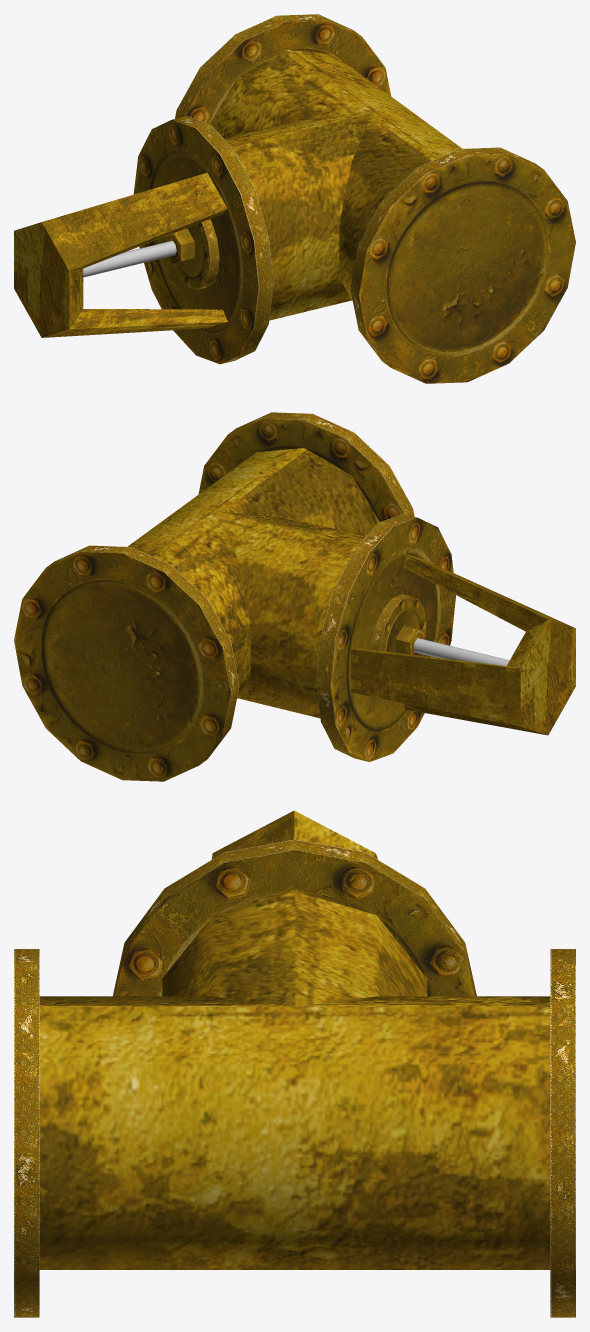
The model's file is valve_yellow.DAE.
The picture shows the model from 3 angles, top to bottom: view 1: azimuth 30°, elevation 25°; view 2: azimuth 150°, elevation 25°; view 3: azimuth 270°, elevation 25°; orthographic projection. The views are drawn at different scales.
Visible parts, largest first — view 1: Box342, Box341, Box347; view 2: Box342, Box341, Box347; view 3: Box341, Box342.
Part boxes in pixels (<box>): Box342: <box>133,14,575,383</box>; Box341: <box>14,49,462,337</box>; Box347: <box>83,241,176,277</box>; Box342: <box>14,412,455,781</box>; Box341: <box>127,448,575,735</box>; Box347: <box>413,638,509,665</box>; Box341: <box>39,810,550,1269</box>; Box342: <box>14,839,575,1317</box>.
Bounding box in the file's own units: 1.33 × 1 × 0.6566.
